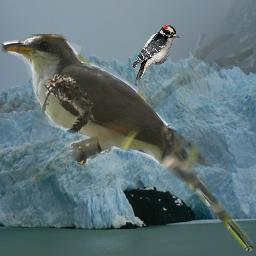Cuckoo: (1, 34, 253, 251)
Woodpecker: (132, 25, 182, 82)
